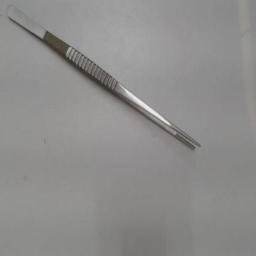DeBakey Dissector: (2, 2, 220, 164)
